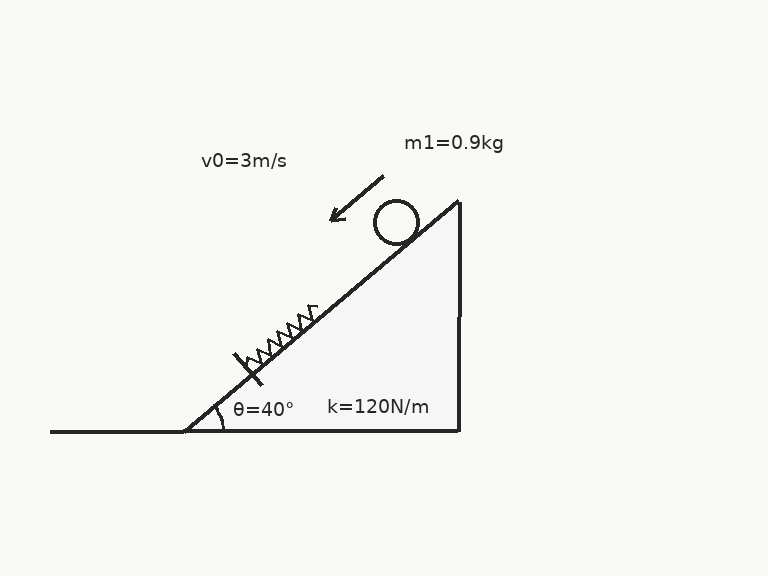ball: (371, 197, 421, 247)
ramp: (181, 198, 460, 433)
spring: (244, 303, 319, 368)
